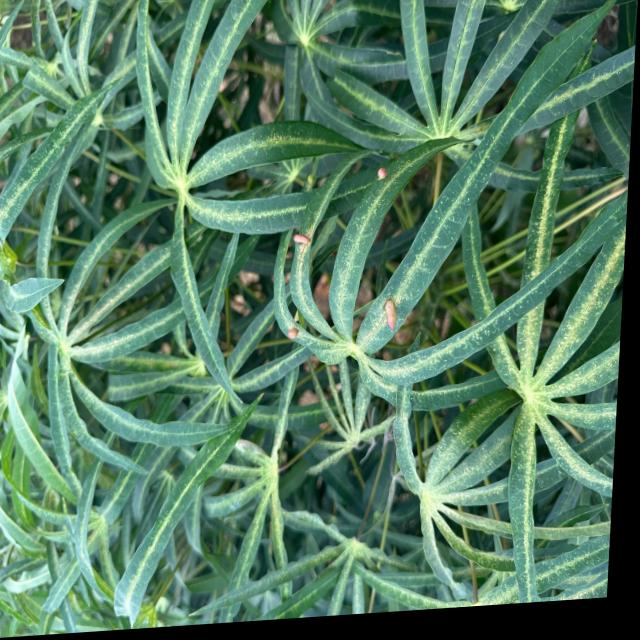Mosca: (218, 288, 256, 327), (379, 287, 405, 332), (366, 159, 394, 190), (279, 323, 307, 352), (288, 216, 307, 252), (314, 417, 335, 438)
